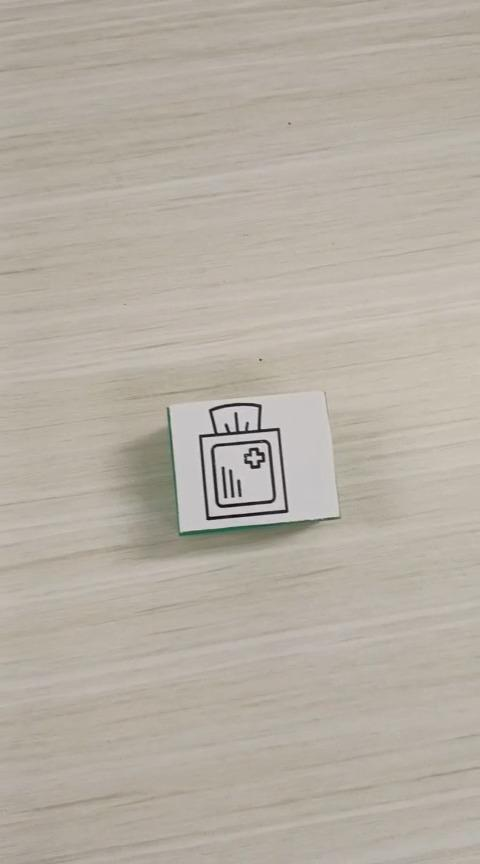Gauze: (165, 389, 340, 535)
